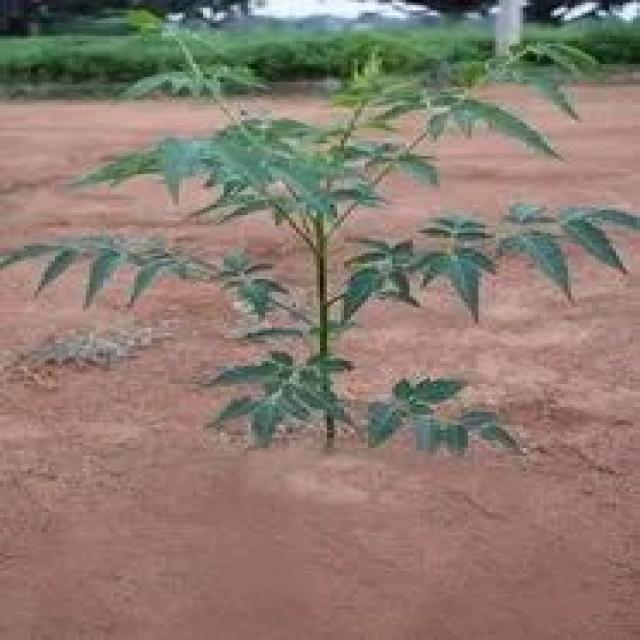Medicinal-Neem: (7, 211, 640, 478), (70, 77, 604, 209)
